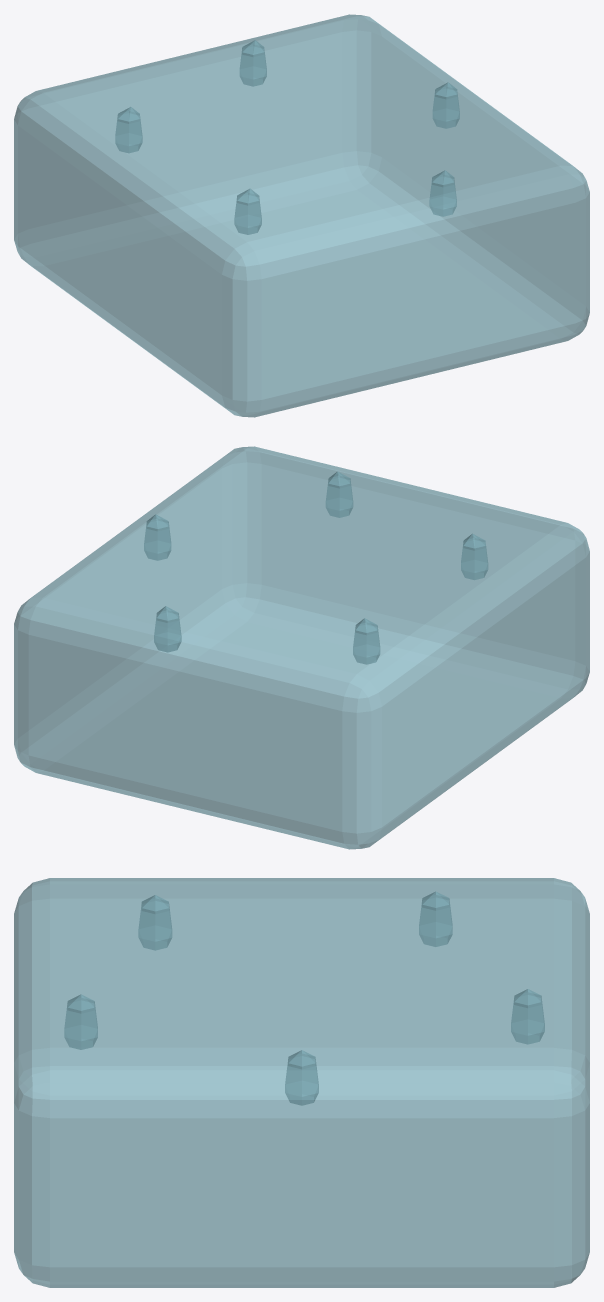
Rendered from frost_shell.glb.
3 views of the same model, one above another, from view 1: azimuth 30°, elevation 25°; view 2: azimuth 150°, elevation 25°; view 3: azimuth 270°, elevation 25° (orthographic). The views are drawn at different scales.
Parts seen in each view (by area): view 1: Smoked_crystal; view 2: Smoked_crystal; view 3: Smoked_crystal.
Boxes of the visible parts, bbox=[...] form: Smoked_crystal: bbox=[14, 14, 589, 417]; Smoked_crystal: bbox=[14, 446, 589, 849]; Smoked_crystal: bbox=[14, 878, 589, 1287].
Size of the model in its own units: 1.01 by 0.49 by 1.12.
